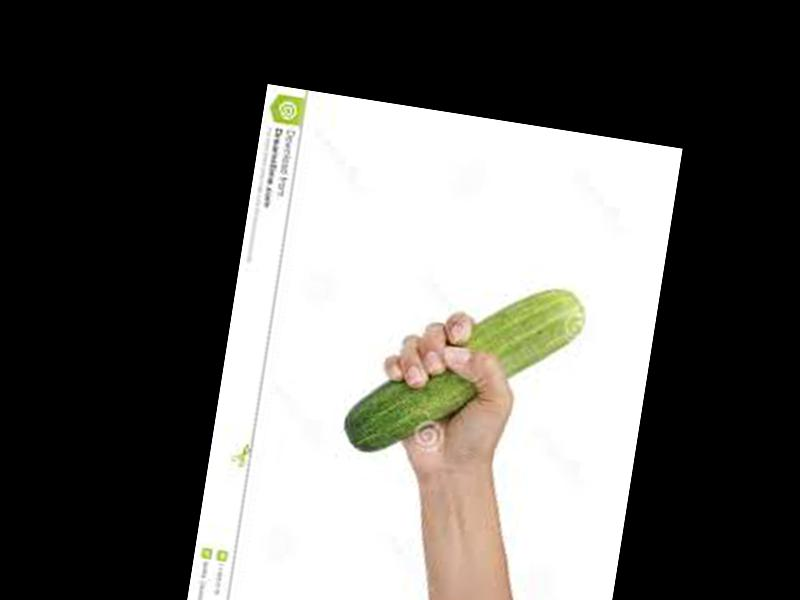Cucumber: (339, 260, 586, 486)
